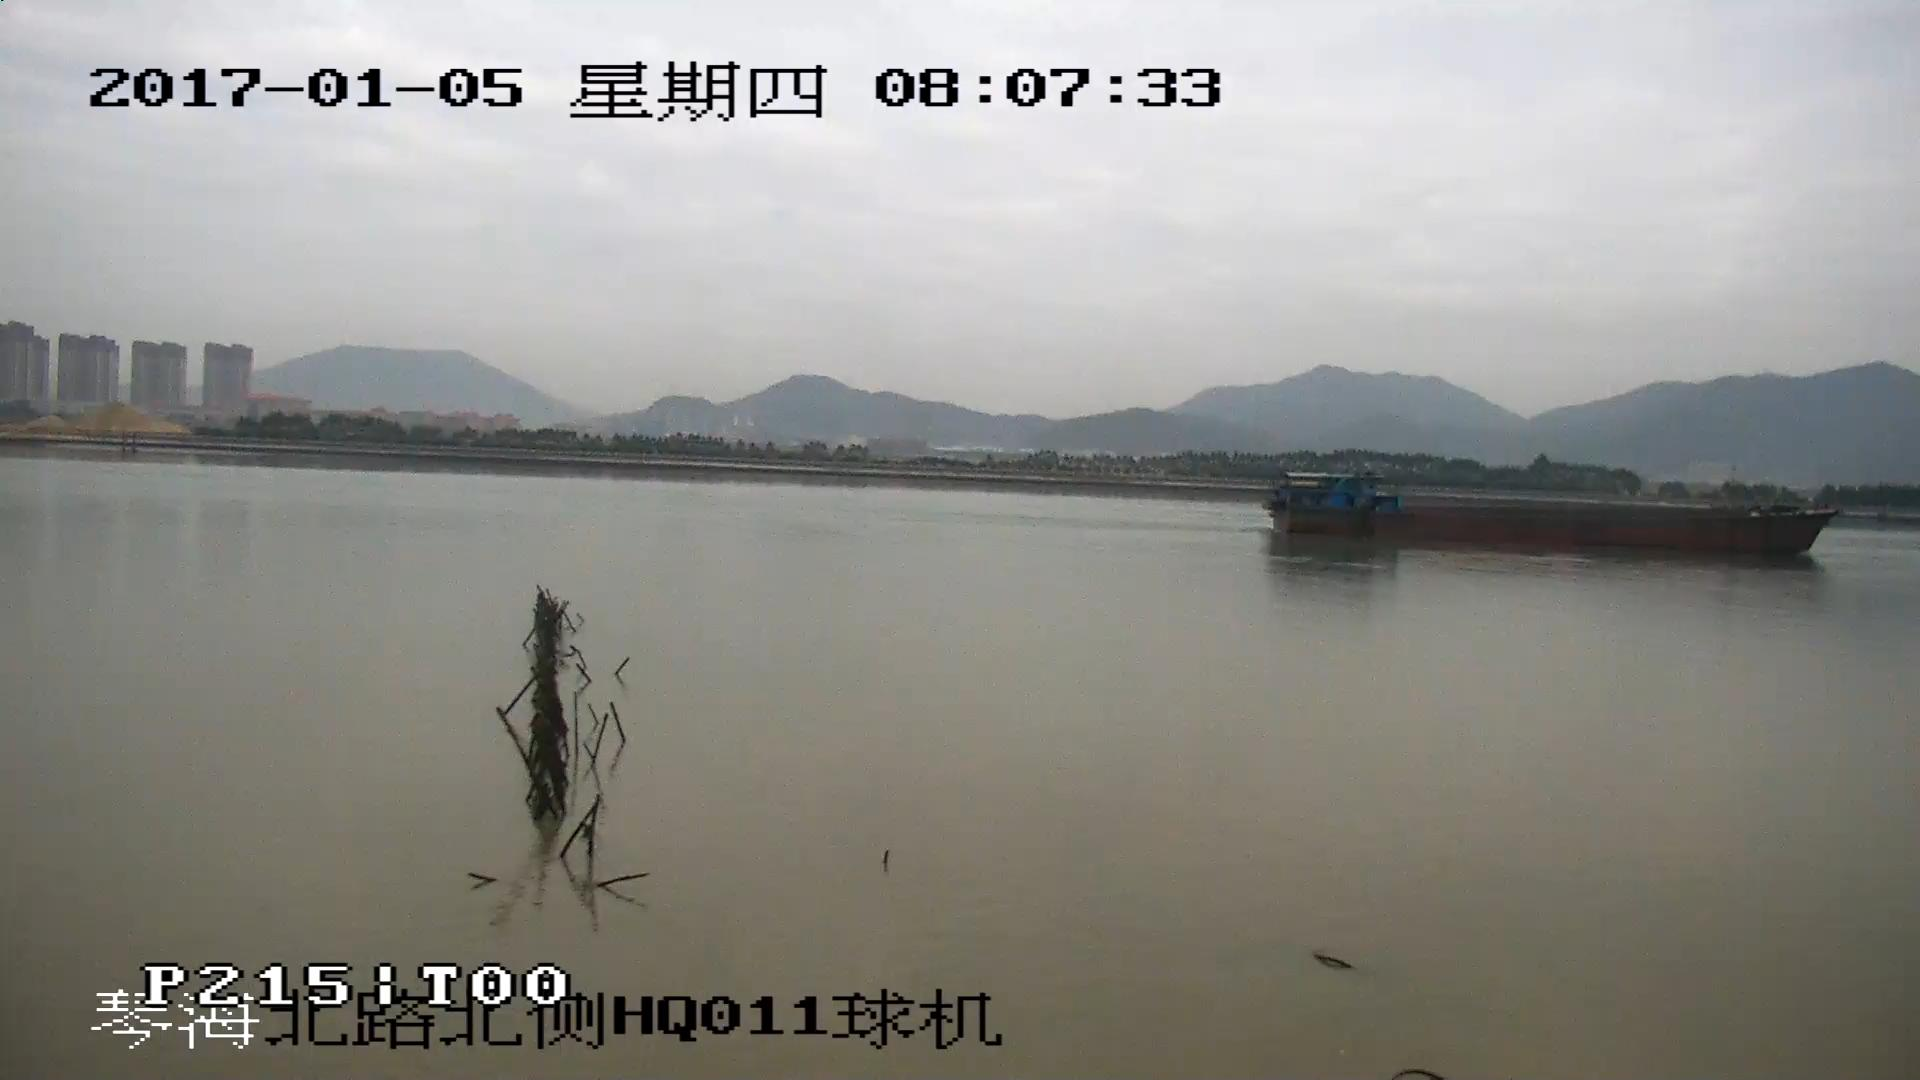bulk cargo carrier: (1259, 470, 1831, 560)
